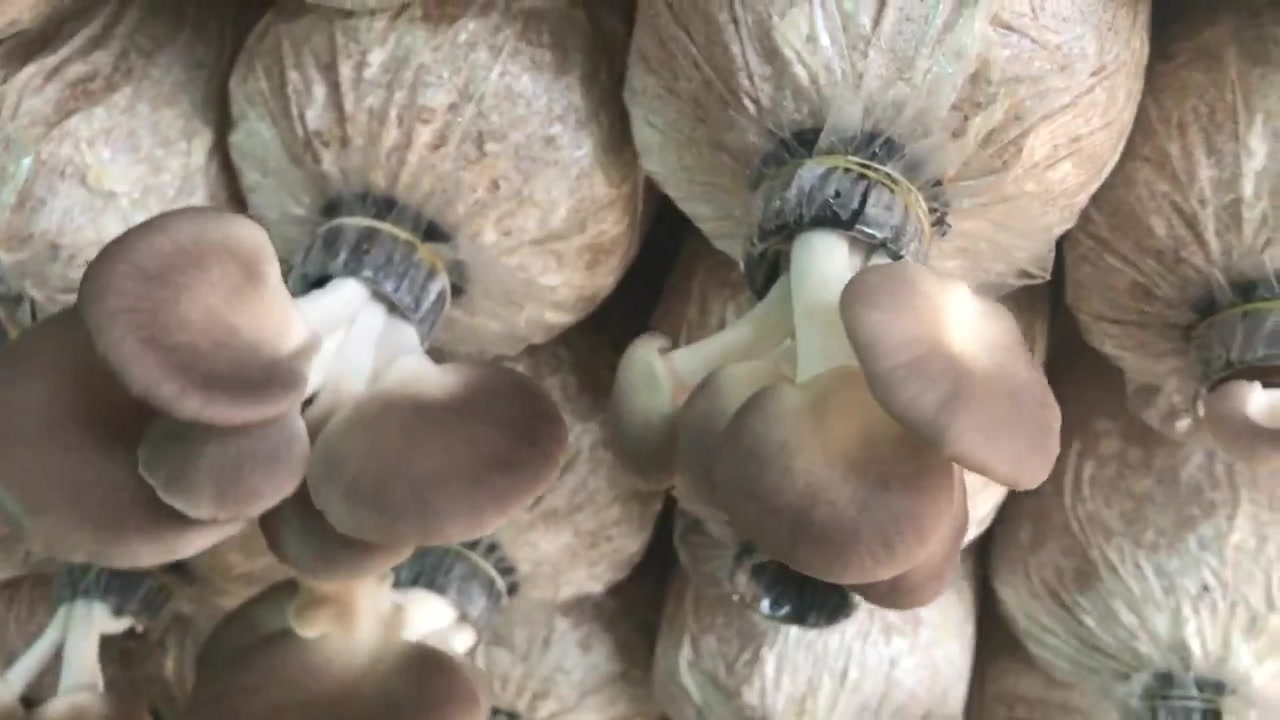nam: (1, 206, 562, 585), (612, 166, 1062, 612), (195, 560, 510, 720), (1, 566, 160, 720), (1204, 290, 1280, 462)
